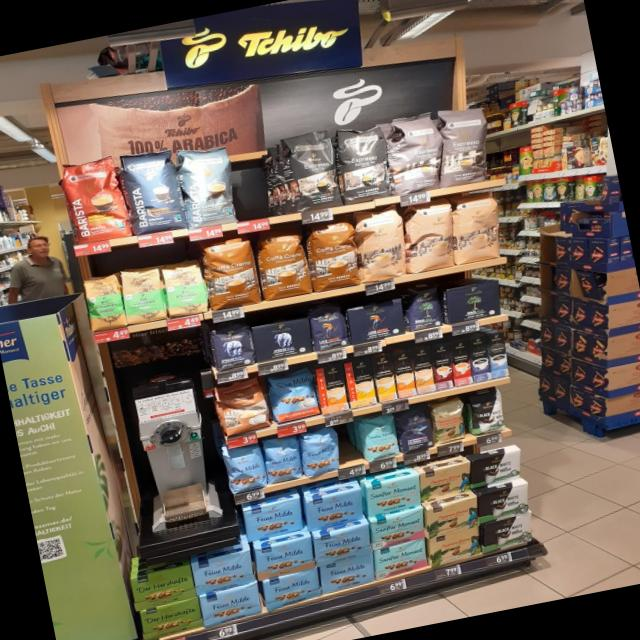AB Bohne: (207, 320, 258, 372)
AB Gemahlen: (250, 315, 314, 364)
Athiopien Bohne: (81, 270, 129, 334)
Athiopien Gemahlen: (118, 262, 170, 328), (158, 258, 211, 320)
BM Bohne: (400, 280, 446, 333)
BM Gemahlen: (445, 279, 503, 325)
BW Bohne: (462, 386, 509, 438)
BW Gemahlen: (479, 511, 534, 554), (476, 482, 530, 524), (470, 448, 522, 490)
Barista CC: (173, 140, 242, 232)
Barista Kolumbien: (54, 152, 134, 250), (114, 144, 188, 240)
C Fino Bohne: (394, 406, 436, 454)
CC Mild: (348, 203, 408, 284), (402, 197, 457, 276), (448, 189, 503, 267)
CC Vollmundig: (210, 376, 275, 438)
CC Vollmundig 36 Pads: (198, 232, 264, 314), (250, 223, 314, 304), (300, 216, 364, 295)
Colombia BB Bohne: (429, 396, 471, 444)
Colombia BB Gemahlen: (426, 496, 480, 539), (426, 525, 482, 565), (419, 461, 471, 502)
Espresso Kraftig: (276, 128, 345, 216)
Espresso M Art: (426, 98, 505, 192), (378, 108, 454, 198)
Espresso S Art: (330, 117, 396, 205)
FM 36 Pads: (264, 365, 322, 425)
FM Bohne: (220, 438, 270, 494), (296, 426, 346, 478), (261, 432, 306, 486)
FM Gemahlen: (189, 548, 257, 594), (199, 582, 263, 629), (242, 497, 305, 543), (261, 566, 323, 612), (253, 536, 316, 581), (304, 488, 365, 531), (317, 552, 377, 595), (312, 523, 372, 565)
Herzhatfe Mundig: (129, 564, 197, 612), (139, 596, 204, 640)
LG Bohne: (306, 301, 352, 354)
LG Gemahlen: (346, 297, 408, 345)
SM Bohne: (354, 412, 402, 464)
SM Gemahlen: (366, 472, 423, 518), (369, 507, 425, 551), (372, 538, 429, 581)
Simo CCMild: (342, 356, 378, 408)
Simo CCMild bigpack: (368, 352, 399, 403)
Simo CCVollmundig: (312, 362, 351, 416)
Simo CCVollmundig bigpack: (388, 349, 418, 399)
Simo Decaff: (408, 346, 438, 395)
Simo Es Elegant: (448, 338, 476, 388)
Simo Es Kraft: (428, 342, 457, 391)
Simo Kaffee Kraft: (466, 334, 494, 382)
Simo Kaffee Mild: (484, 330, 514, 380)
